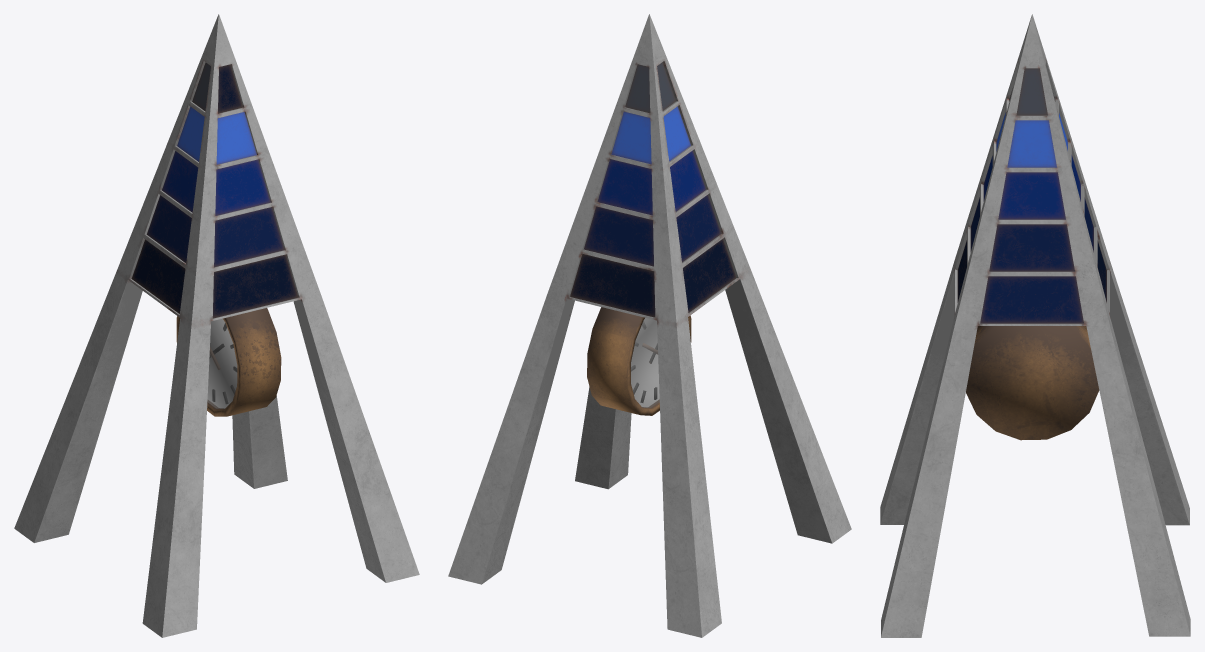
Rendered from SM_TideClock.gltf.
3 views of the same model, side by side, from view 1: azimuth 30°, elevation 25°; view 2: azimuth 150°, elevation 25°; view 3: azimuth 270°, elevation 25° (orthographic). The views are drawn at different scales.
Parts seen in each view (by area): view 1: SM_TideClock, SM_TideClock_Glass; view 2: SM_TideClock, SM_TideClock_Glass; view 3: SM_TideClock.
Boxes of the visible parts, x1=… form: SM_TideClock: x1=14, y1=14, x2=419, y2=637; SM_TideClock_Glass: x1=207, y1=319, x2=237, y2=408; SM_TideClock: x1=448, y1=14, x2=851, y2=637; SM_TideClock_Glass: x1=631, y1=318, x2=659, y2=407; SM_TideClock: x1=880, y1=14, x2=1190, y2=637.
Bounding box in the file's own units: 1.28 × 2.56 × 1.29.
2 materials, 2 textured.
